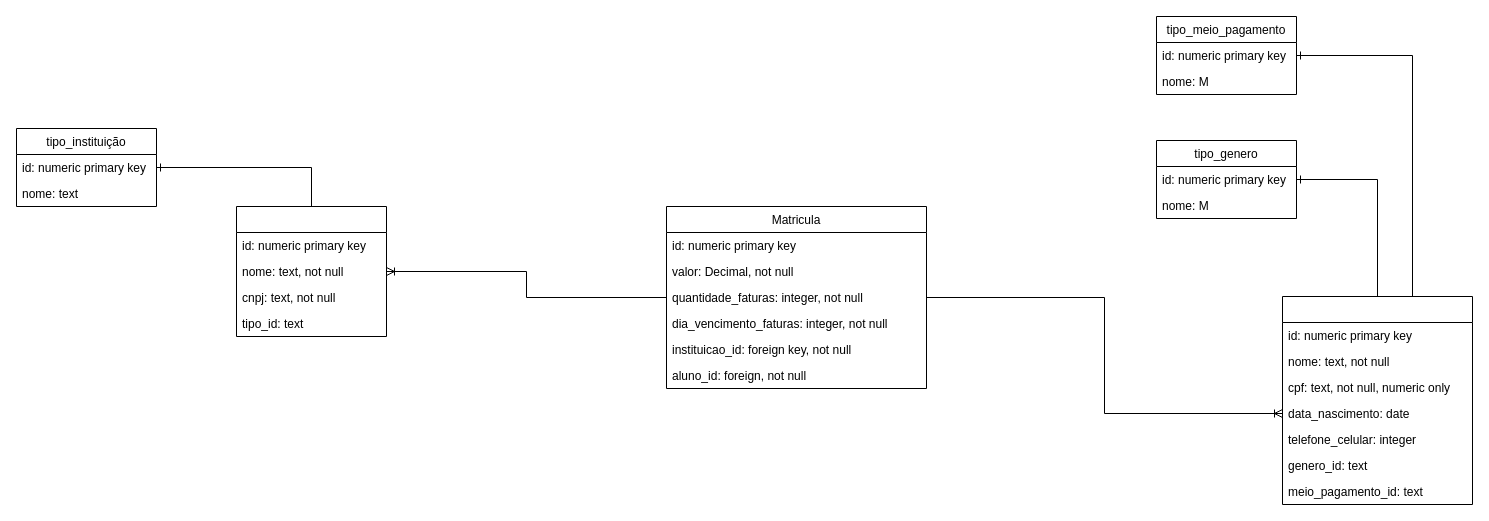
This 1489x521 diagram has some shape labels left out. Each missing label, with the box of its shape:
Aluno: (1282, 296, 1472, 504)
Instituição: (236, 206, 386, 336)
